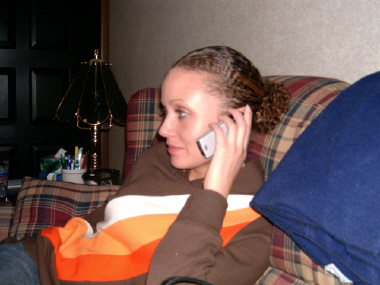person: (2, 47, 293, 285)
